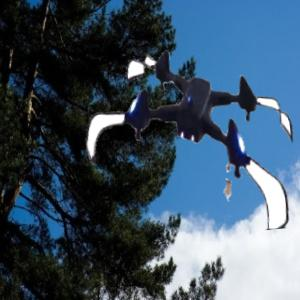drone: (82, 23, 298, 239)
